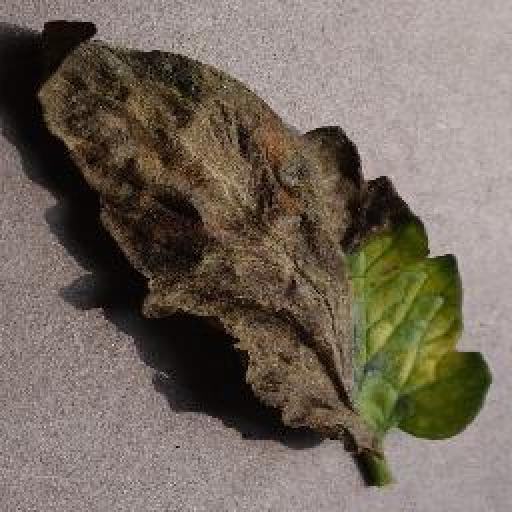Late Blight: (35, 16, 493, 440)
